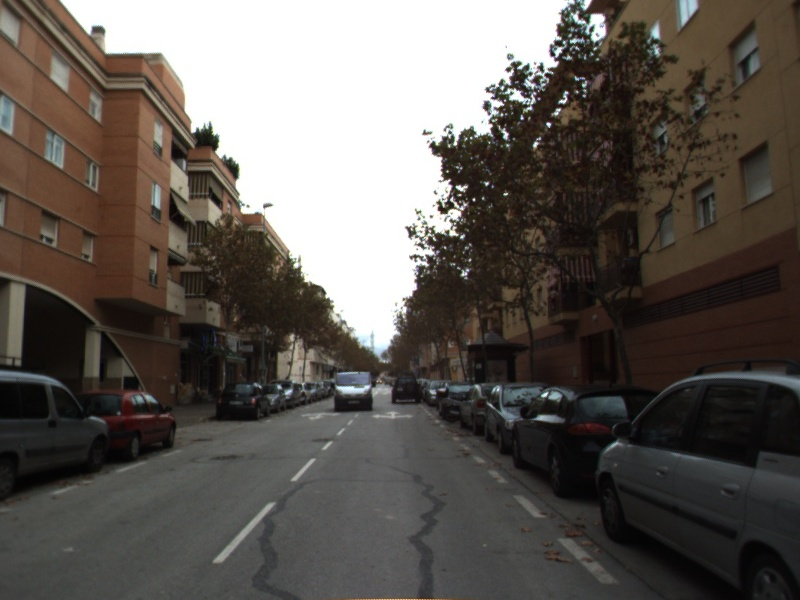STRAIGHT_LEFT_RIGHT: (370, 408, 416, 421)
